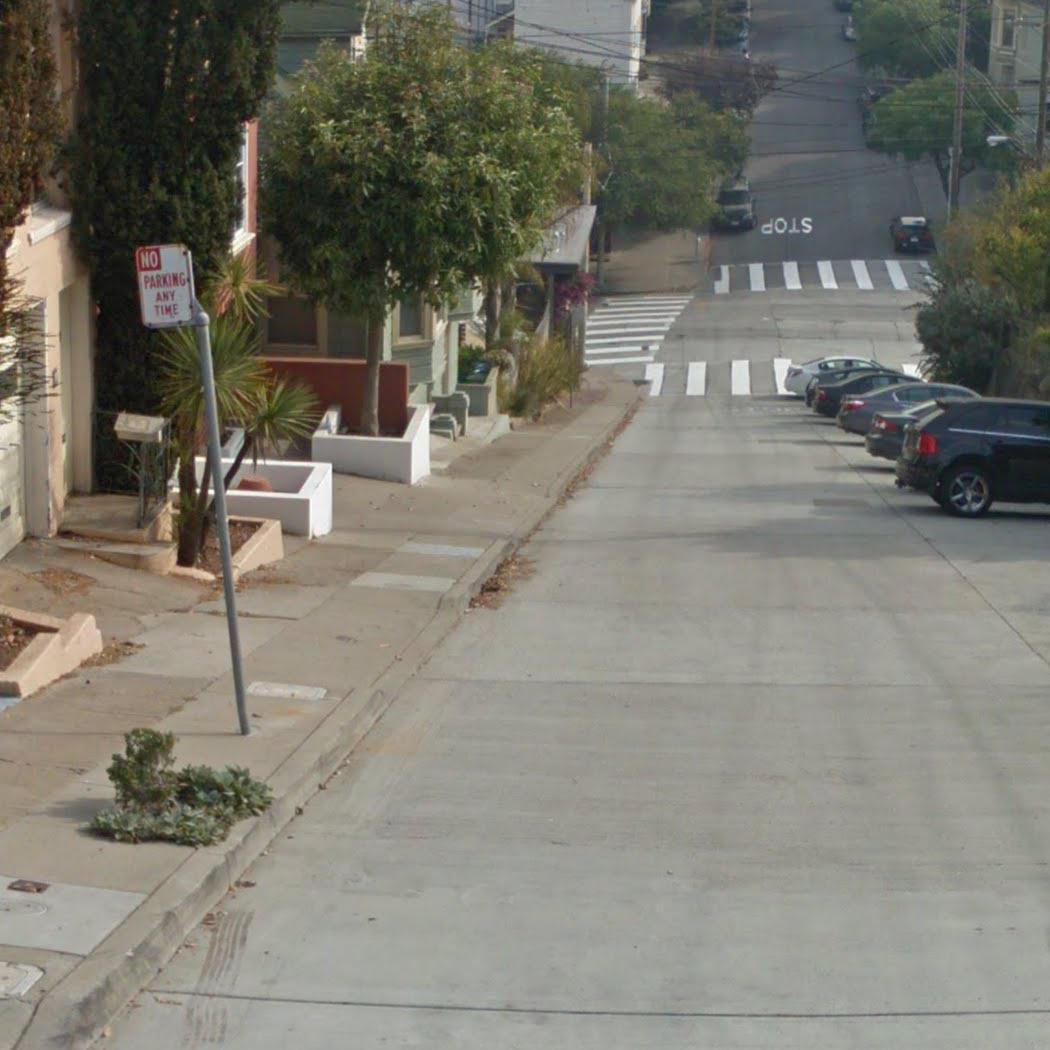No Parking Anytime: (128, 235, 203, 332)
